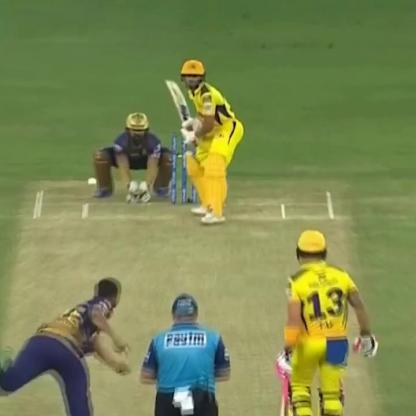ball: (83, 177, 102, 189)
bat: (161, 77, 200, 146), (270, 358, 302, 414)
pitch: (0, 179, 389, 415)
